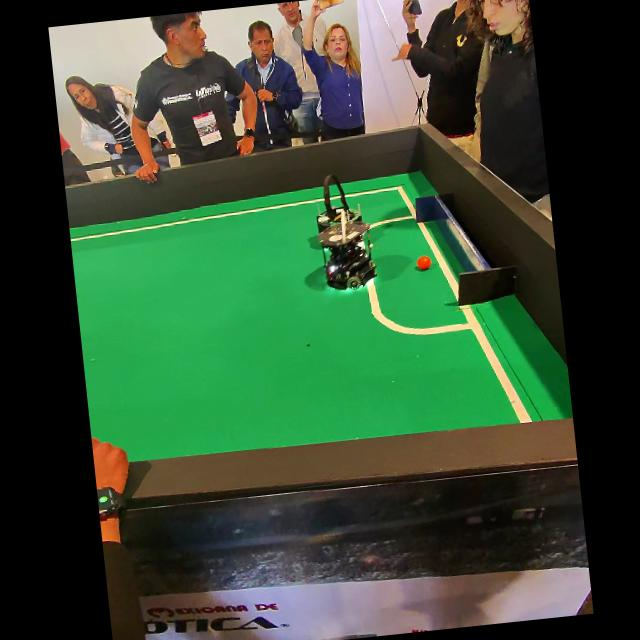ball: (416, 256, 430, 270)
goal: (414, 195, 516, 305)
robot: (316, 208, 375, 289), (313, 171, 362, 228)
